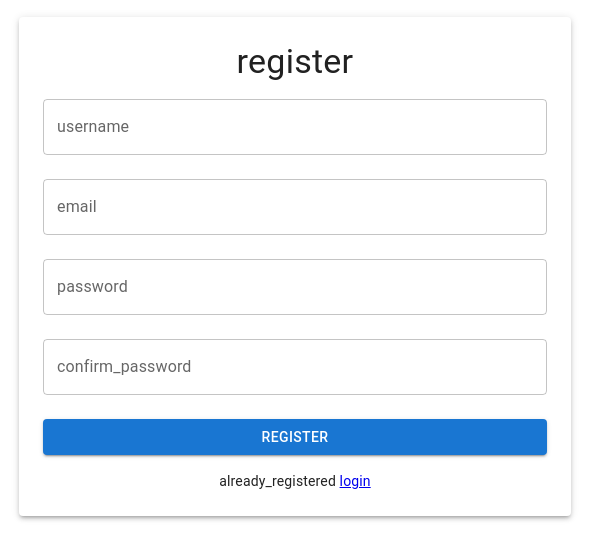
Test: Register Component › shows error when passwords do not match
This screenshot has width=591, height=560.
Fill username and email fields correctly
Step 1. Type "newuser" into the field labelled "username" → (295,127), box [43,99,547,155]
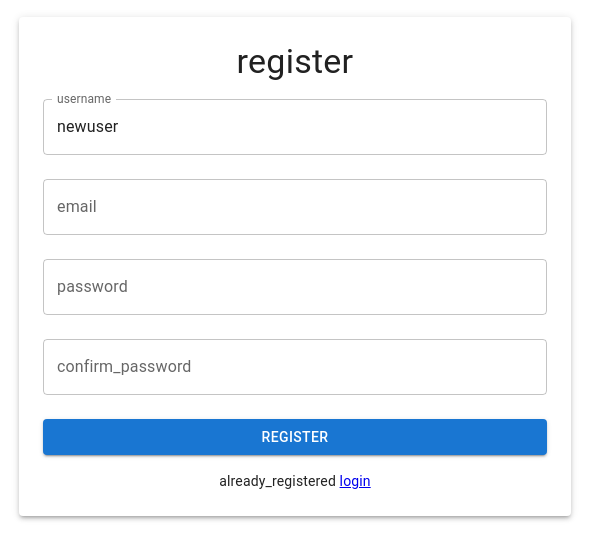
Step 2. Type "newuser@example.com" into the field labelled "email" → (295,207), box [43,179,547,235]
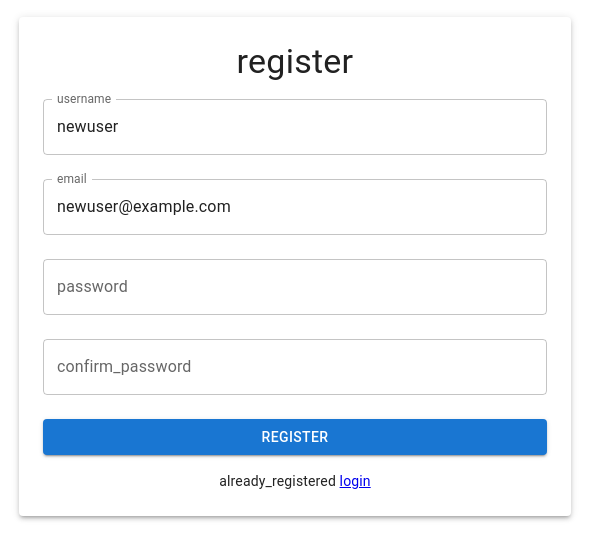
Enter mismatched passwords
Step 3. Type "Password123" into the password field labelled "password" → (295,287), box [43,259,547,315]
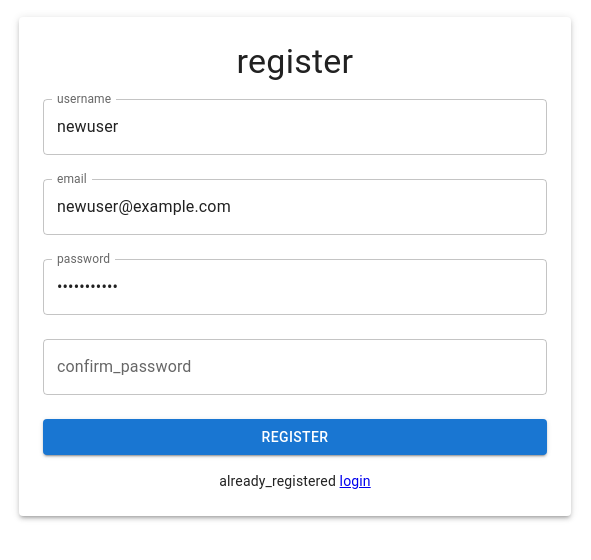
Step 4. Type "DifferentPass" into the password field labelled "confirm_password" → (295,367), box [43,339,547,395]
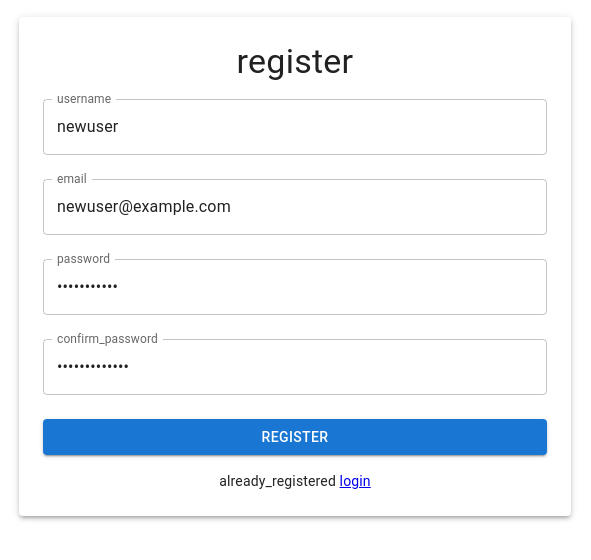
Click Register button
Step 5. Click the button "register" → (295,437), box [43,419,547,456]
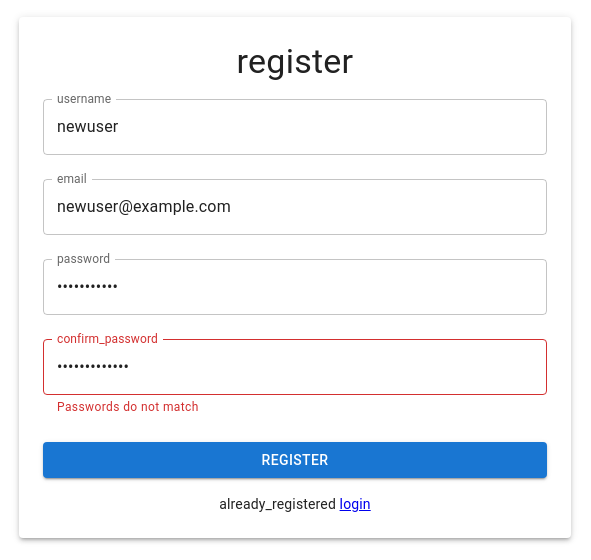
Expected: the text "Passwords do not match" is shown, [57,400,199,414]
